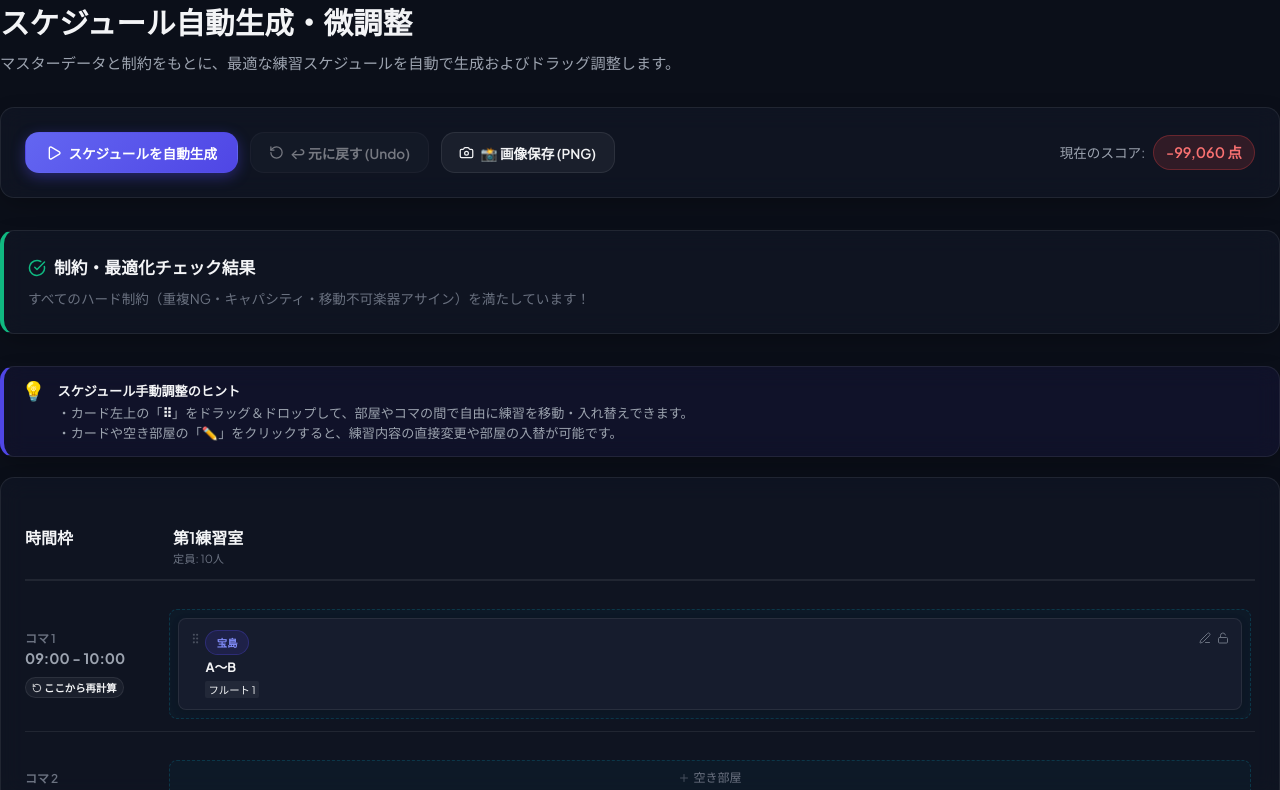
Test: Top-level Tab Components › ScheduleTab › opens export modal when PNG export button is clicked
Click the button "📸 画像保存 (PNG)" at (528, 153), box [441, 132, 615, 173]
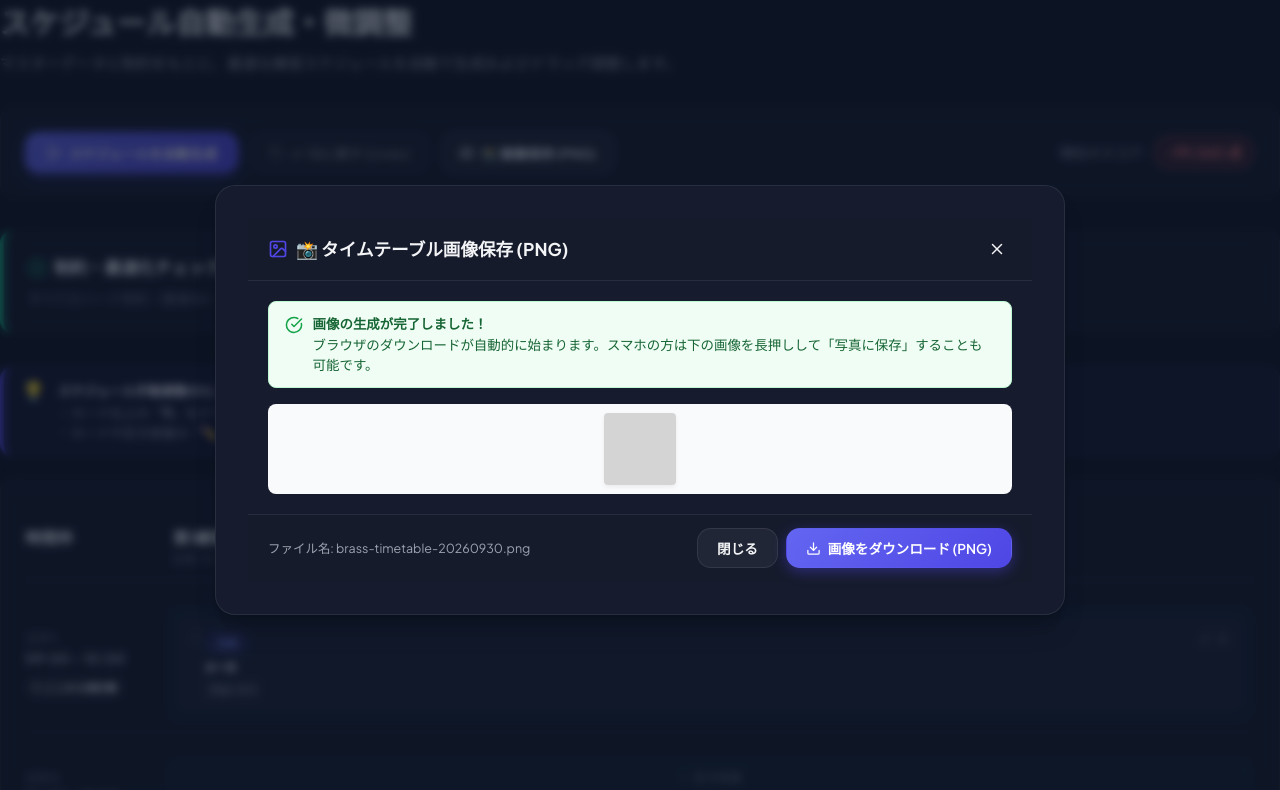
Now the heading "📸 タイムテーブル画像保存 (PNG)" is shown, box [296, 236, 568, 263]
